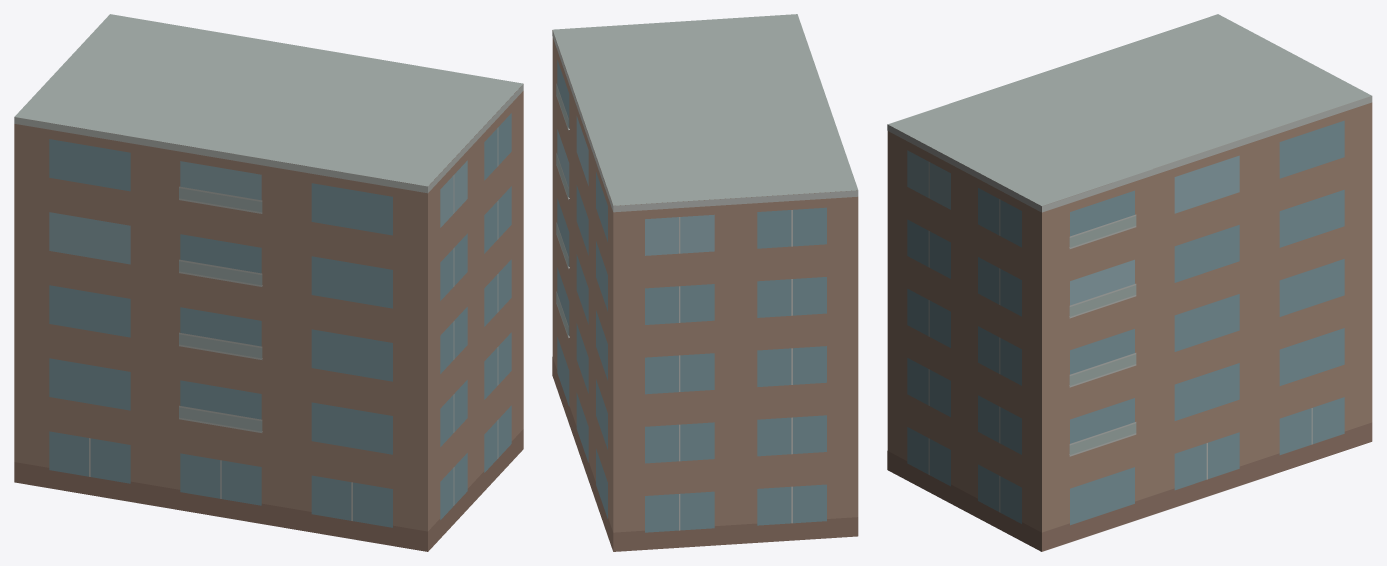
File: survey-upis-32982542.glb
The picture shows the model from 3 angles, left to right: view 1: azimuth 30°, elevation 25°; view 2: azimuth 150°, elevation 25°; view 3: azimuth 270°, elevation 25°; orthographic projection. The views are drawn at different scales.
Visible parts, largest first — view 1: survey-upis-32982542.tmp; view 2: survey-upis-32982542.tmp; view 3: survey-upis-32982542.tmp.
Part boxes in pixels (box(x1,y1,x2,y2)): survey-upis-32982542.tmp: box(14, 14, 523, 551); survey-upis-32982542.tmp: box(552, 14, 858, 551); survey-upis-32982542.tmp: box(887, 14, 1372, 551).
Bounding box in the file's own units: 15.62 × 13.1 × 16.66.
